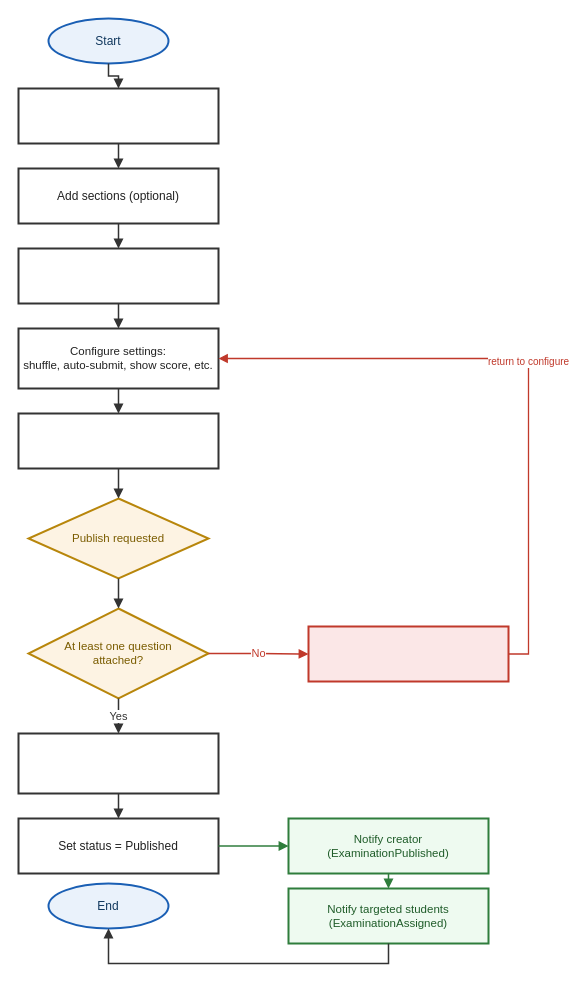
The diagram is 586 pixels wide and 989 high, and some of its shapes have lost their labels. The centre of each missing label's shape, as x and y in pixels:
Attach questions from Question Bank: the point at 118,275
Auto-generate access code if none exists: the point at 118,763
Block publish; show error: the point at 408,653
Counselor creates exam draft: the point at 118,115
Define interpretation ranges (optional): the point at 118,440
